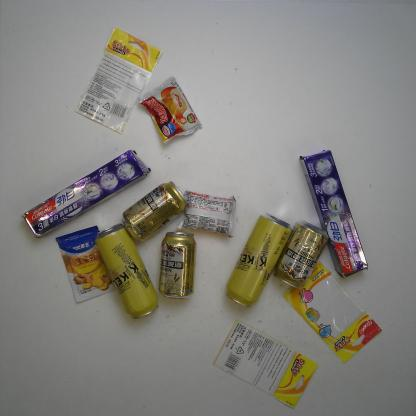Alcohol: (224, 211, 292, 309), (94, 222, 159, 320), (121, 180, 189, 242), (273, 220, 330, 290), (158, 231, 198, 300)
Dessert: (138, 75, 203, 144), (177, 192, 237, 238)
Personal Hygiene: (20, 149, 152, 239), (299, 148, 369, 279)
Seasoner: (55, 225, 116, 304)
Stationery: (282, 260, 383, 364), (212, 317, 318, 410), (74, 27, 164, 136)
